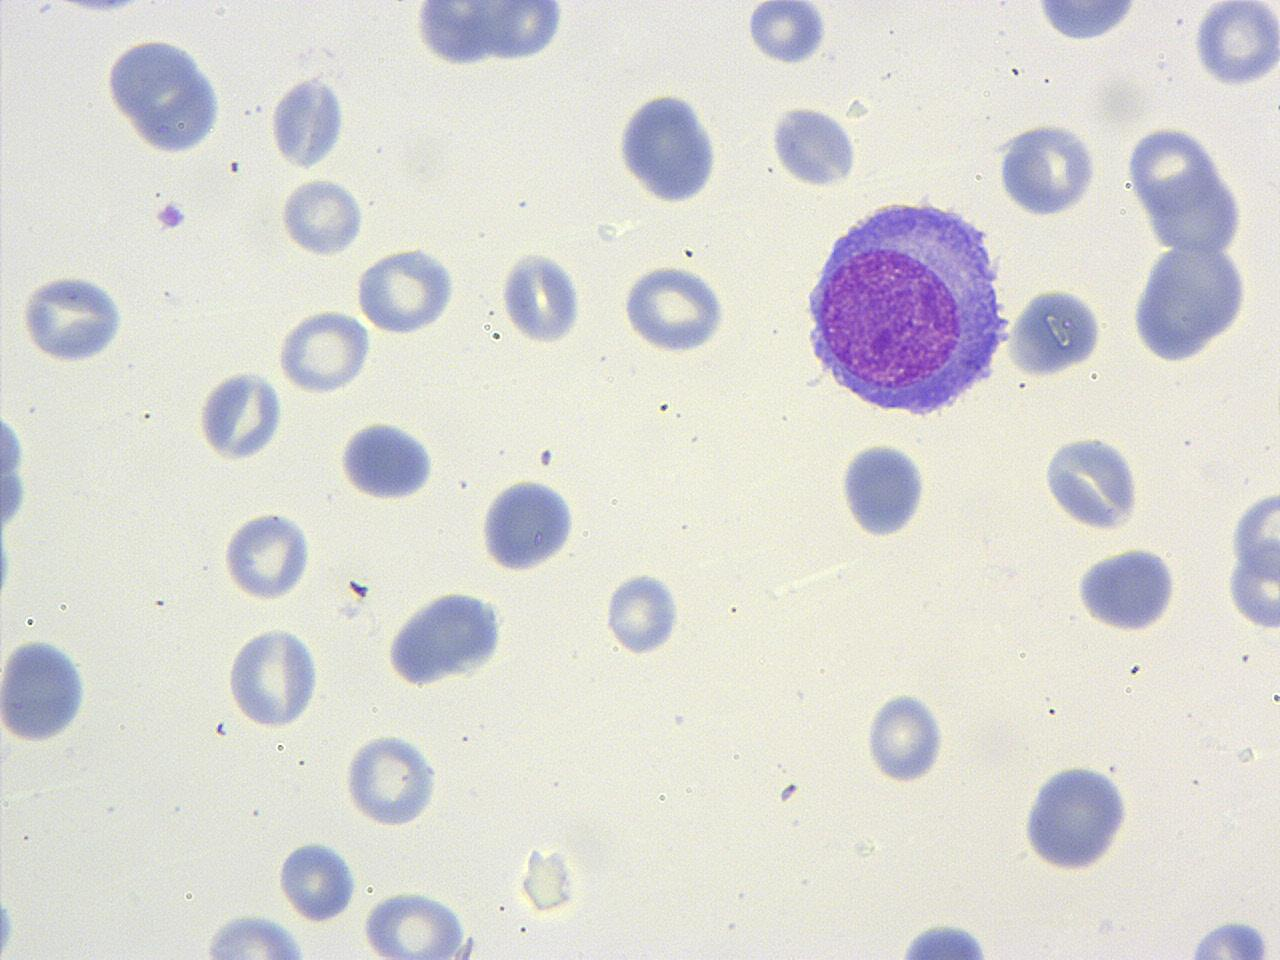Platelets: (1040, 431, 1148, 534), (17, 267, 130, 365), (836, 438, 930, 541), (860, 690, 950, 788), (766, 100, 860, 191), (1190, 0, 1280, 89), (602, 569, 686, 658), (277, 175, 370, 257), (274, 838, 360, 922), (741, 2, 829, 67), (1176, 918, 1278, 960), (0, 400, 28, 544), (1, 465, 31, 537), (0, 532, 16, 602), (0, 895, 17, 959), (153, 200, 187, 230)
RBC: (992, 118, 1102, 219), (18, 268, 127, 367), (225, 621, 321, 731), (619, 261, 730, 355), (340, 730, 442, 828), (352, 246, 460, 337), (1224, 472, 1280, 634), (220, 506, 314, 602), (864, 686, 950, 790), (275, 305, 373, 396), (498, 247, 586, 346), (360, 886, 472, 958), (275, 174, 368, 258), (604, 568, 682, 659), (274, 838, 359, 922), (198, 910, 313, 958)
WBC: (796, 190, 1020, 422), (1127, 236, 1255, 366), (101, 31, 227, 160), (1018, 758, 1138, 876), (384, 583, 510, 690), (614, 86, 726, 206), (1040, 428, 1148, 534), (16, 266, 130, 366), (404, 2, 575, 68), (225, 622, 323, 732), (1072, 541, 1184, 636), (340, 729, 444, 830), (993, 120, 1101, 218), (0, 632, 92, 746), (478, 473, 579, 576), (1006, 282, 1110, 381), (834, 439, 932, 541), (352, 246, 461, 338), (499, 242, 589, 352), (194, 363, 286, 465), (1223, 480, 1280, 642), (220, 507, 316, 603), (335, 416, 440, 503), (766, 100, 862, 191), (269, 70, 349, 172), (864, 916, 1018, 958), (1, 378, 31, 567), (1157, 914, 1280, 958), (1026, 0, 1150, 43)
